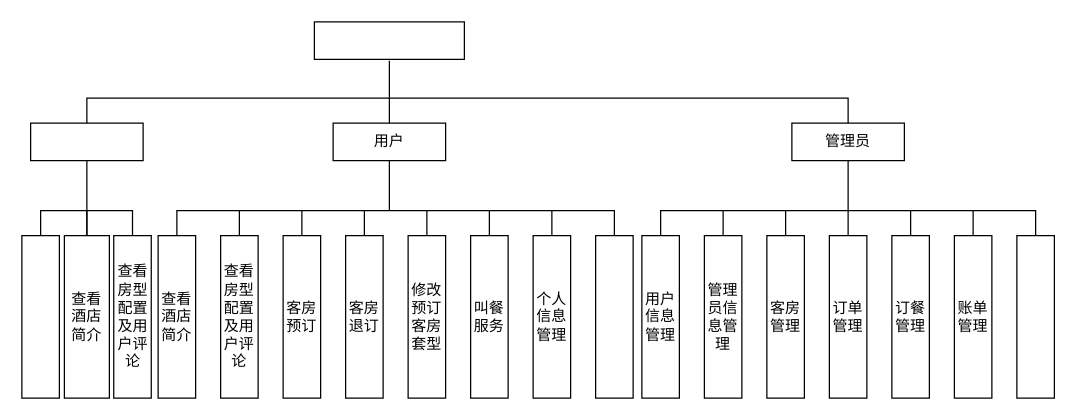
Image size: 1076x420. Some labels were removed from this diagram. Here are the shapes that lost their labels. From the top down, the centre of each, then its label:
At (x=388, y=40): "酒店管理系统".
At (x=86, y=141): "游客".
At (x=40, y=316): "注册".
At (x=613, y=316): "查看消费记录".
At (x=1035, y=316): "客户反馈管理".
